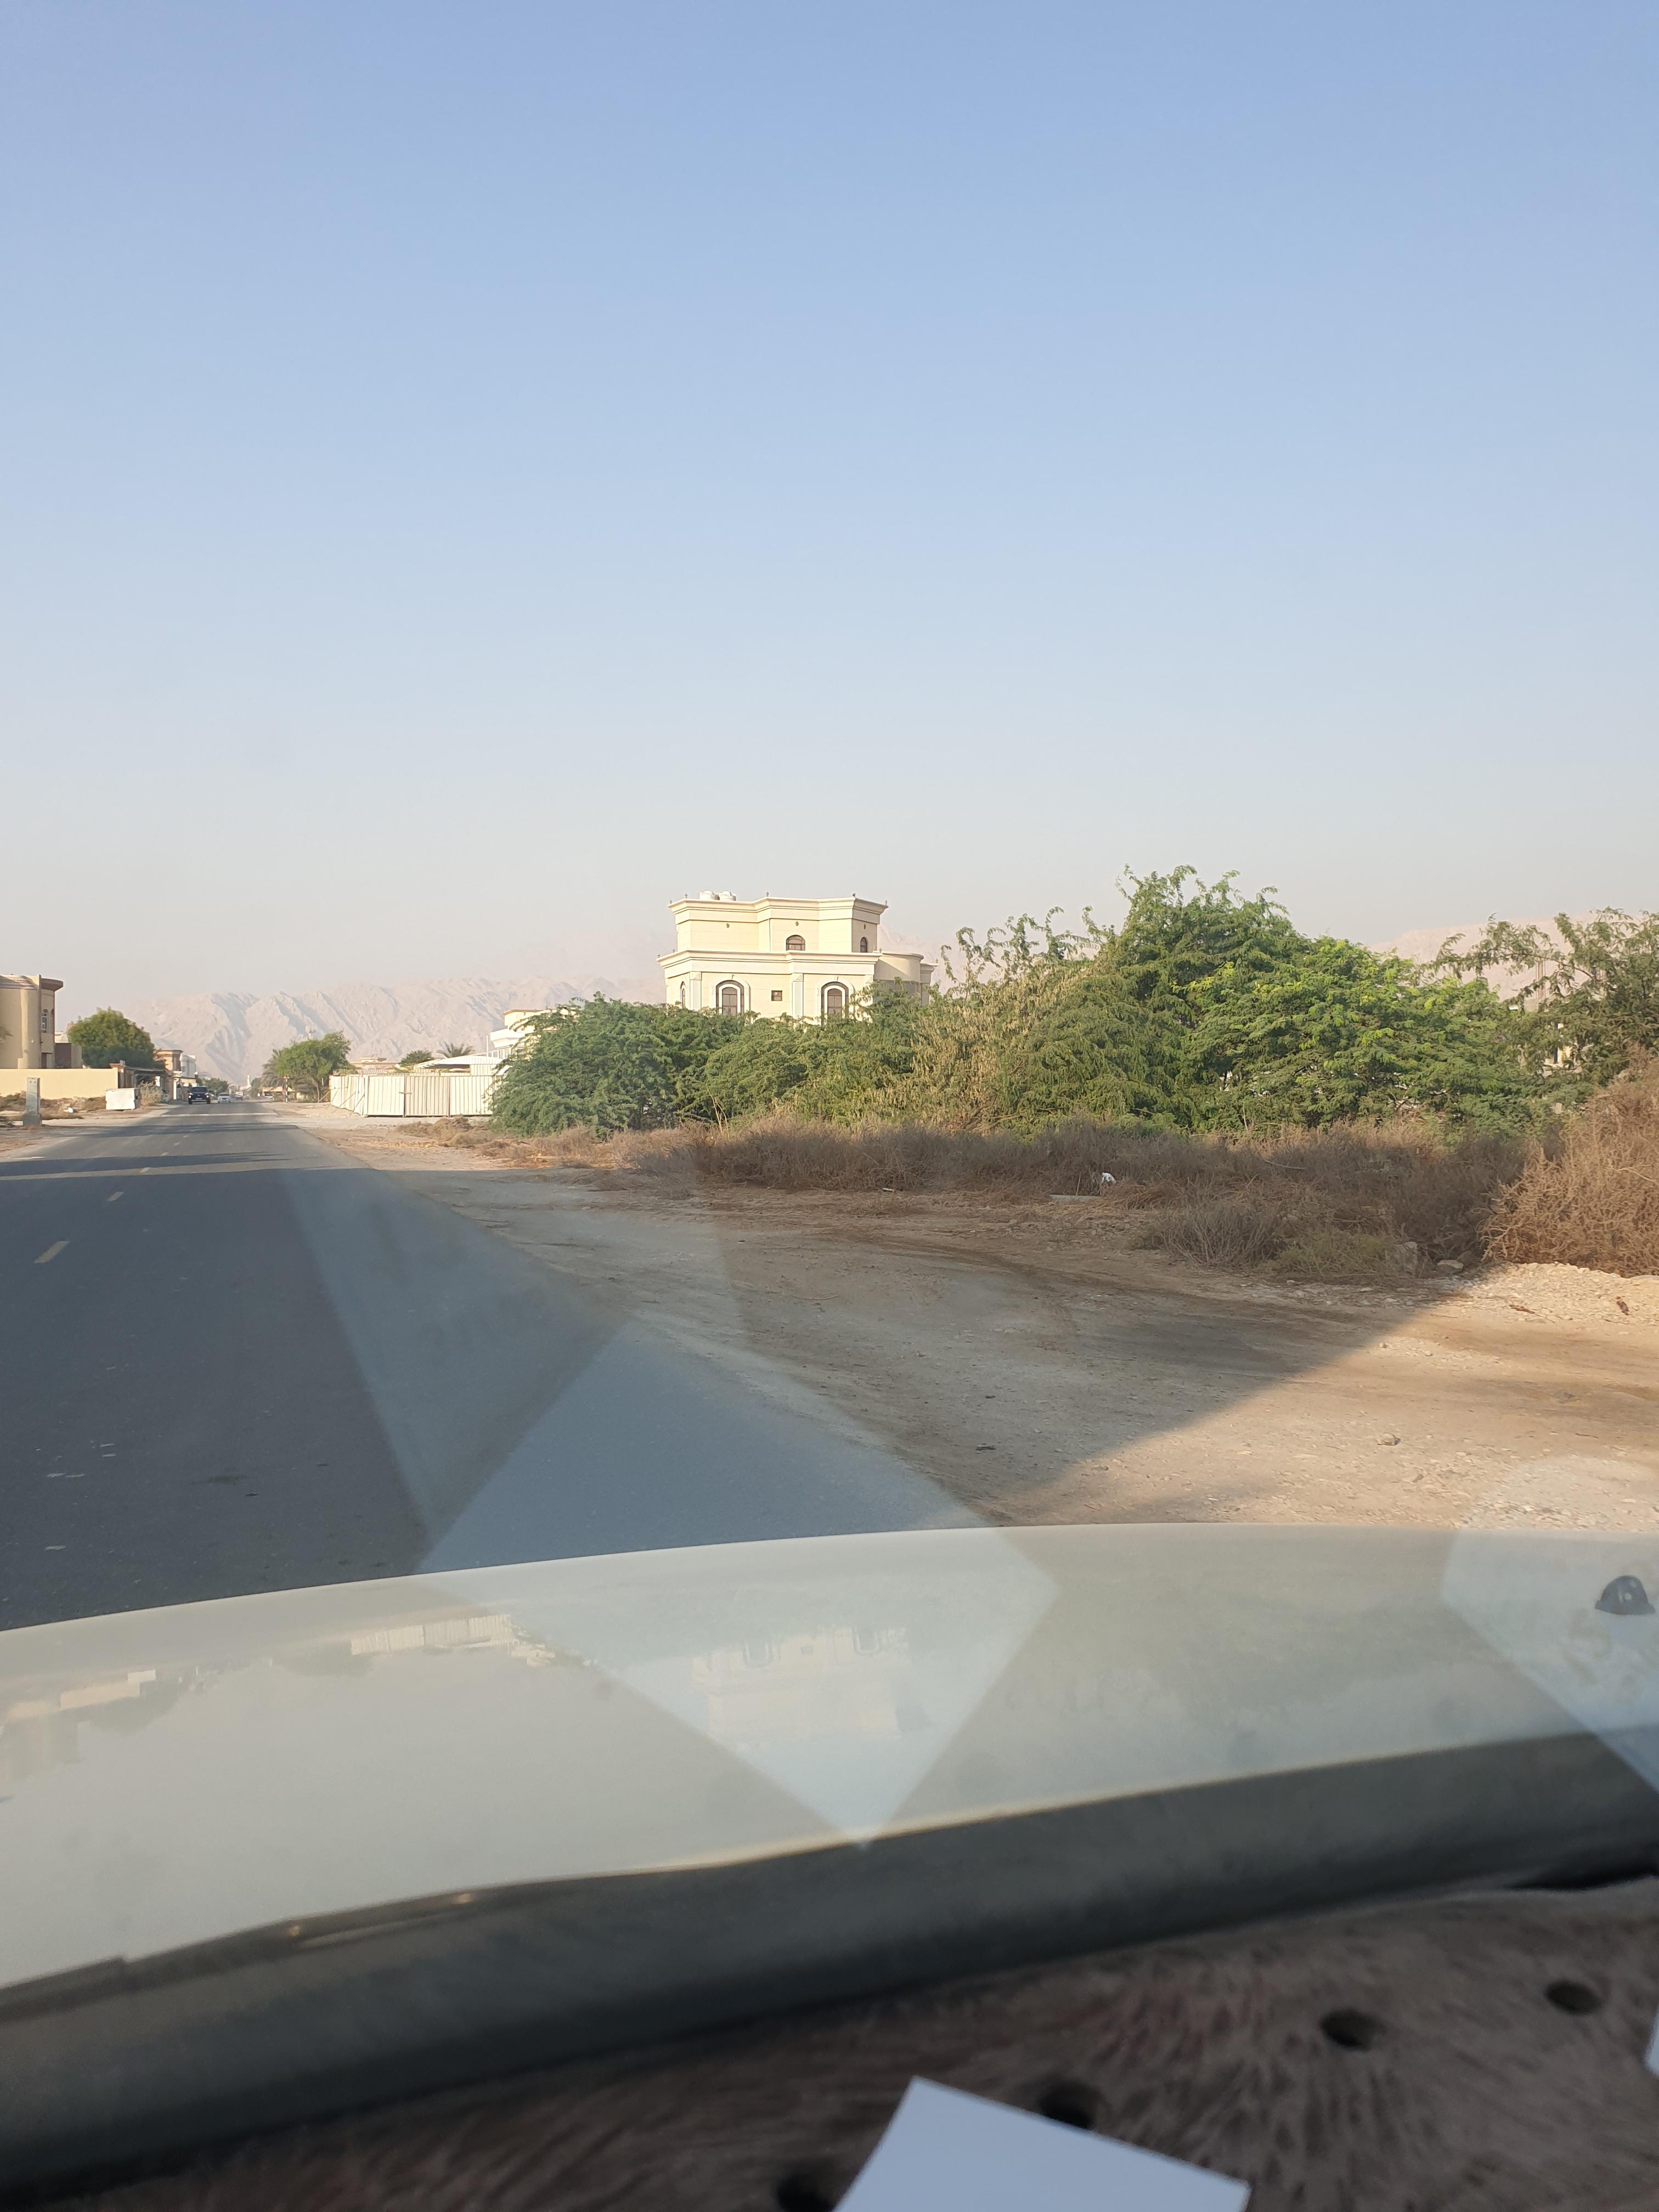fallen_trees: (976, 1177, 1161, 1231)
